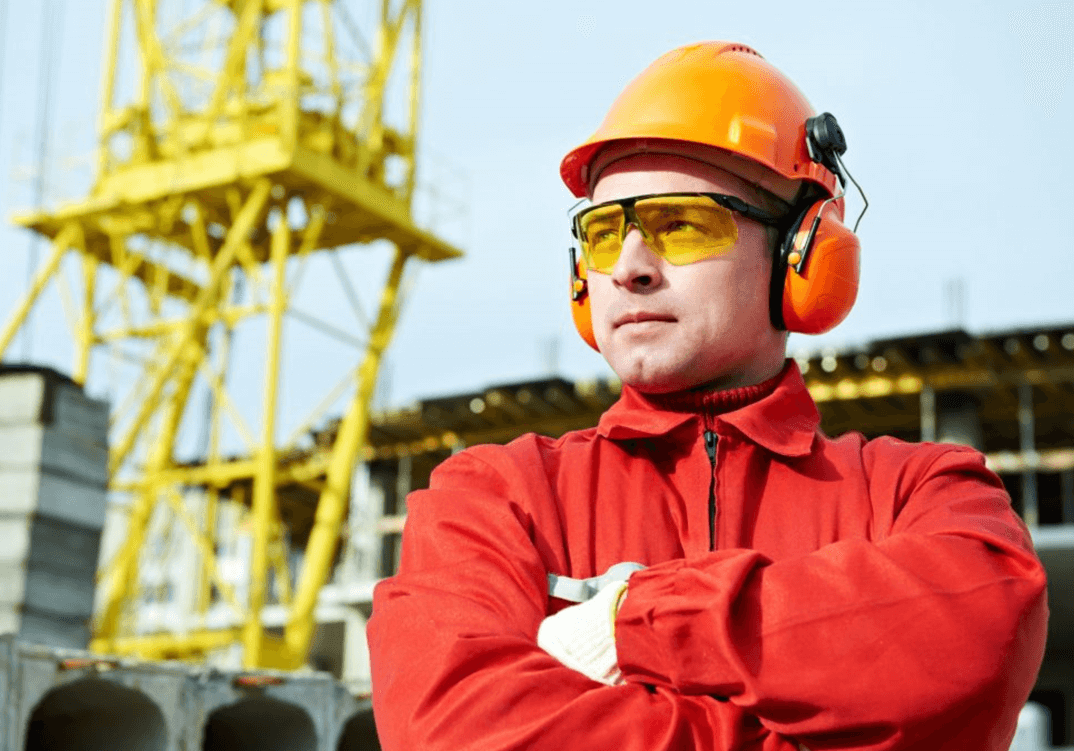Hard Hat: (555, 37, 846, 199)
